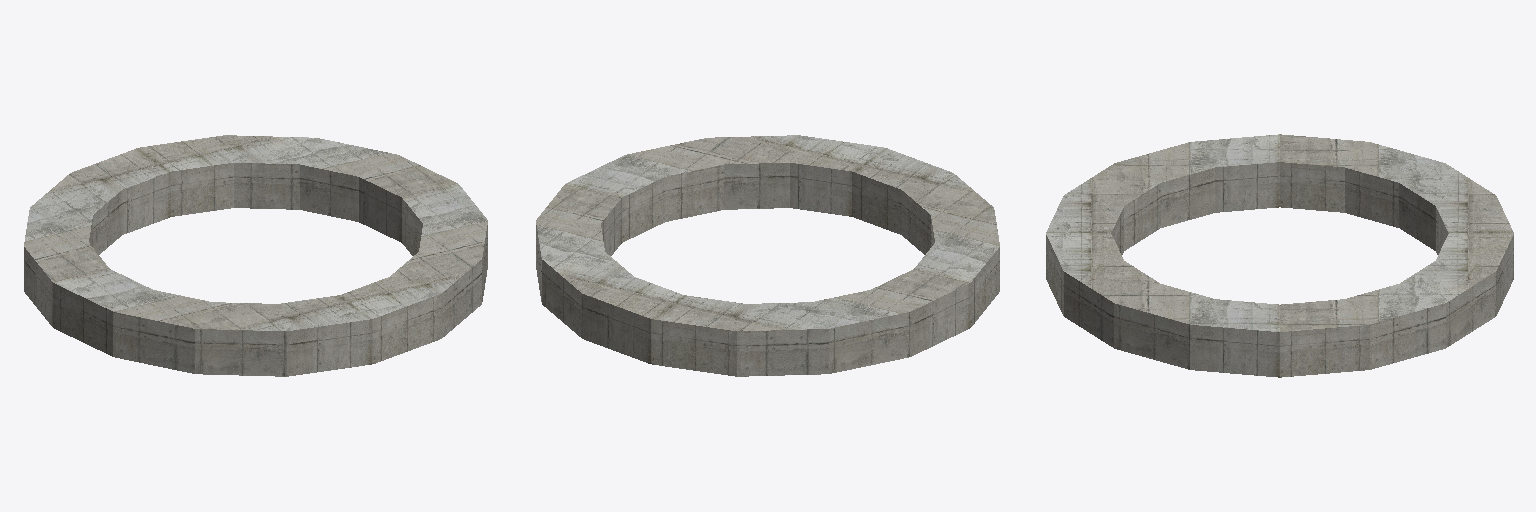
3 renders of one model, left to right at view 1: azimuth 30°, elevation 25°; view 2: azimuth 150°, elevation 25°; view 3: azimuth 270°, elevation 25°, orthographic.
Visible parts, largest first — view 1: cylinder1; view 2: cylinder1; view 3: cylinder1.
Part boxes in pixels (bbox=[...]): cylinder1: bbox=[24, 135, 487, 376]; cylinder1: bbox=[536, 135, 999, 376]; cylinder1: bbox=[1046, 134, 1513, 377].
Bounding box in the file's own units: 1273 × 136 × 1273.
1 materials, 1 textured.